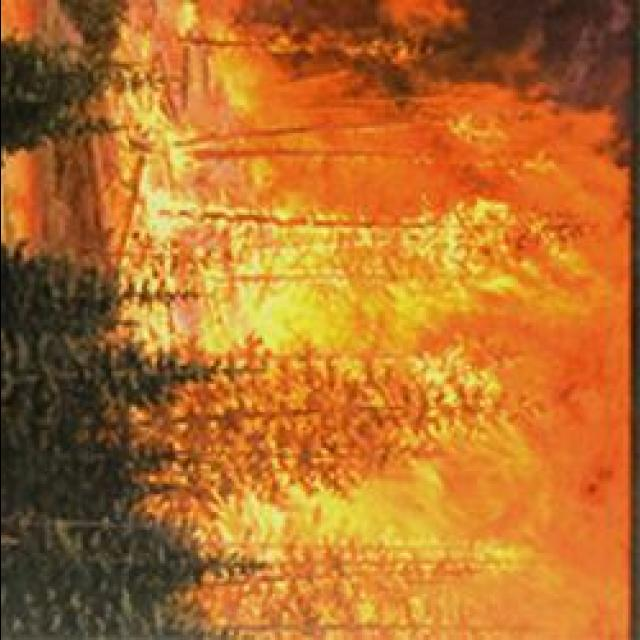fire: (138, 211, 552, 352), (208, 464, 506, 638), (119, 96, 201, 204)
